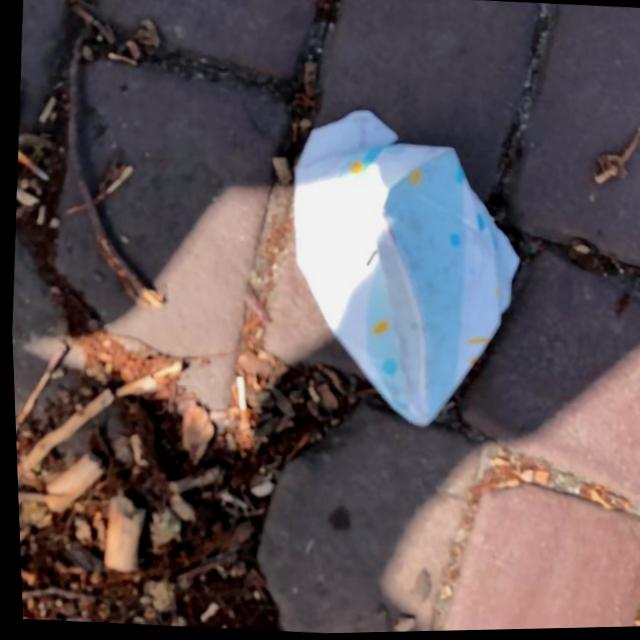Paper: (267, 101, 535, 440)
